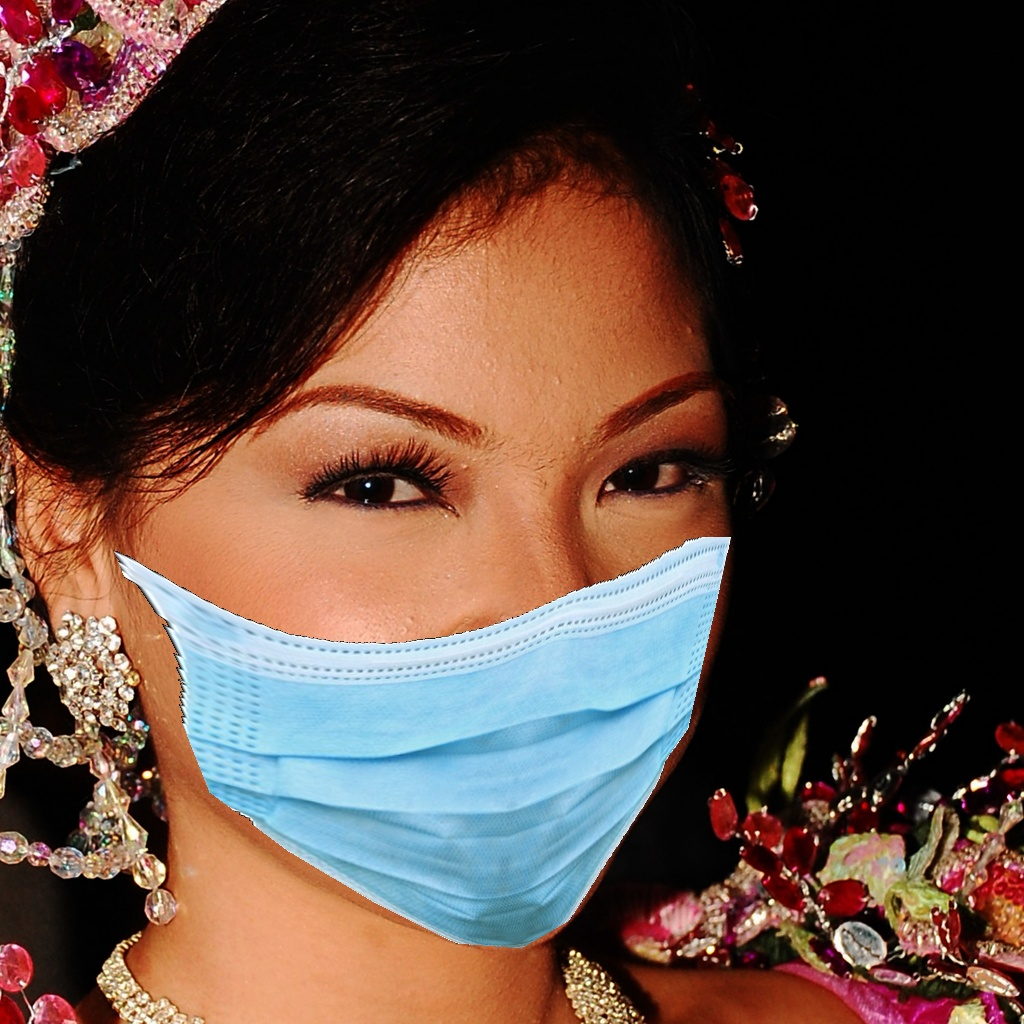Mask: (114, 337, 745, 948)
